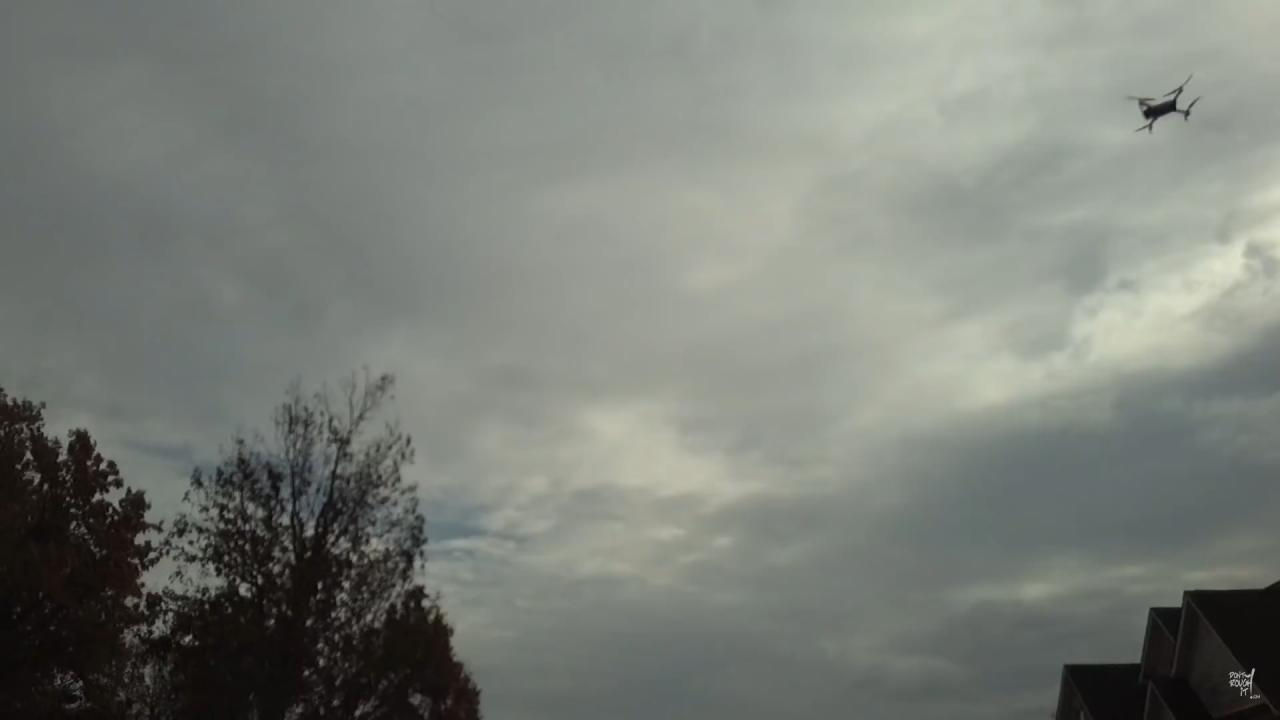Drone: (1117, 66, 1208, 142)
